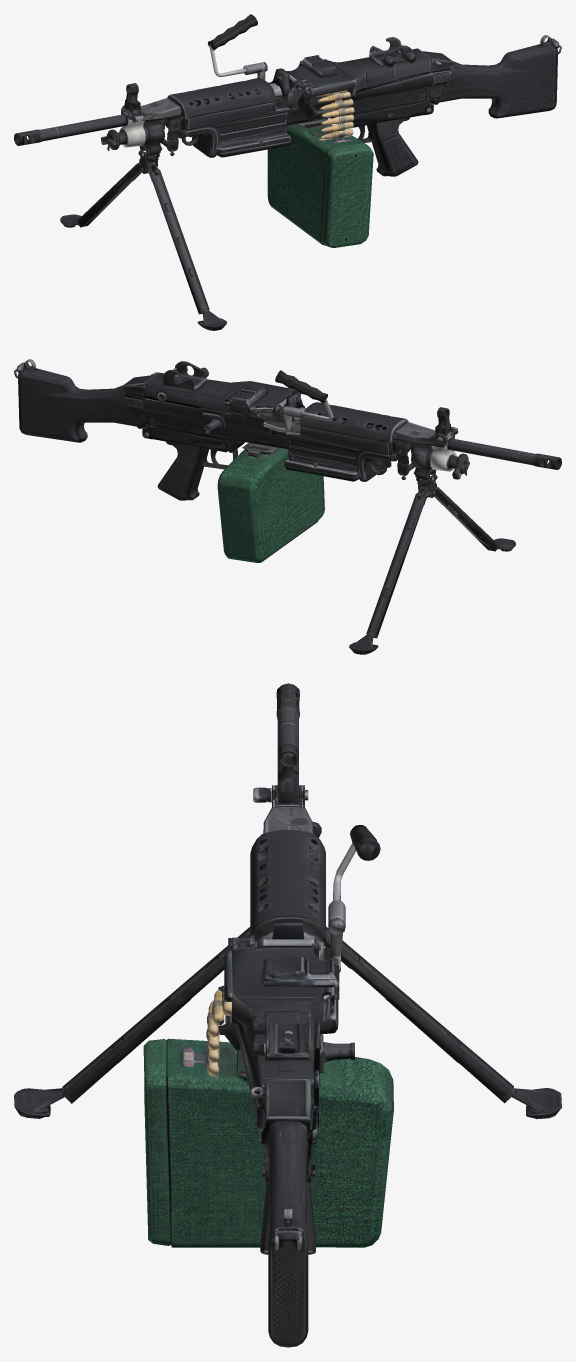
The model's file is assault rifle 3d model.glb.
3 renders of one model, top to bottom at view 1: azimuth 30°, elevation 25°; view 2: azimuth 150°, elevation 25°; view 3: azimuth 270°, elevation 25°, orthographic. The views are drawn at different scales.
Visible parts, largest first — view 1: tripo_node_8ea2db4f-29f8-45a8-9d40-b7a3e0bfade9; view 2: tripo_node_8ea2db4f-29f8-45a8-9d40-b7a3e0bfade9; view 3: tripo_node_8ea2db4f-29f8-45a8-9d40-b7a3e0bfade9.
Part boxes in pixels (x1,y1,x2,y2): tripo_node_8ea2db4f-29f8-45a8-9d40-b7a3e0bfade9: [14, 14, 561, 330]; tripo_node_8ea2db4f-29f8-45a8-9d40-b7a3e0bfade9: [14, 359, 561, 654]; tripo_node_8ea2db4f-29f8-45a8-9d40-b7a3e0bfade9: [14, 683, 561, 1347].
Size of the model in its own units: 0.9995 by 0.3774 by 0.481.
Materials: 1 (1 with a texture image).
